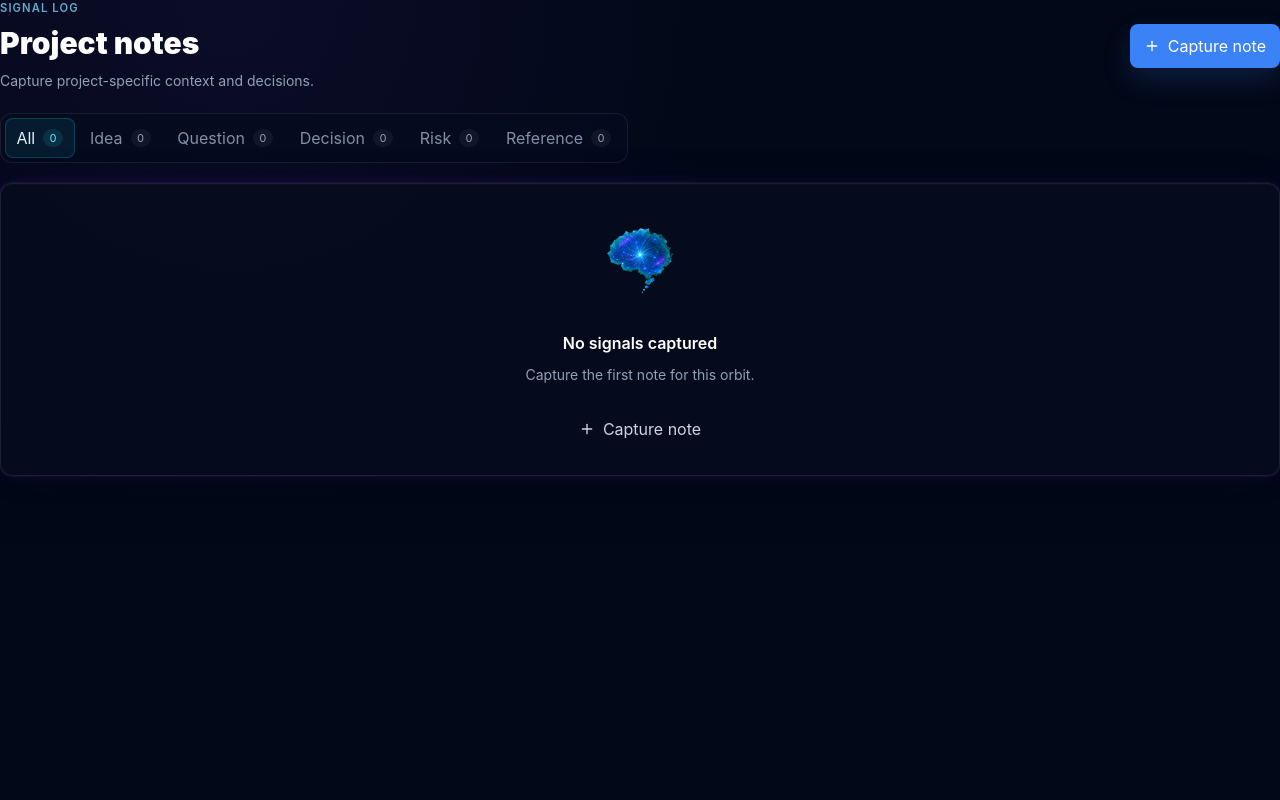
Scenario: NotesPage › keeps both capture entry points functional without equal emphasis
Check: the heading "No signals captured" is shown, box [563,333,717,353]
What coordinates should you click on to do the following:
click the button "Capture note" in the row of "Project notes"
I would click on:
 (1205, 46)
Its box is [1130,24,1279,68].
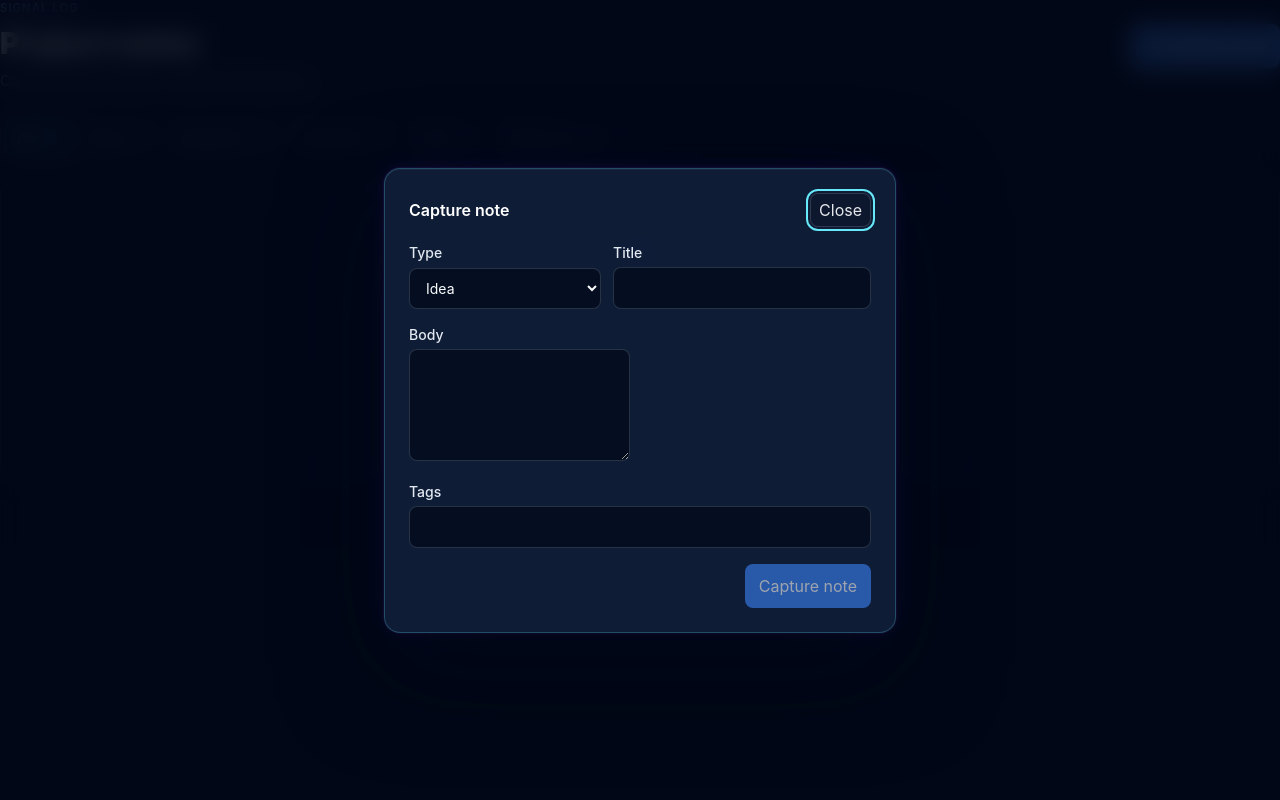
Check: the dialog "Capture note" is shown, box [384,168,896,632]
What coordinates should you click on to do the following:
click the button "Close"
I would click on:
 (841, 210)
Its box is [810,192,871,226].
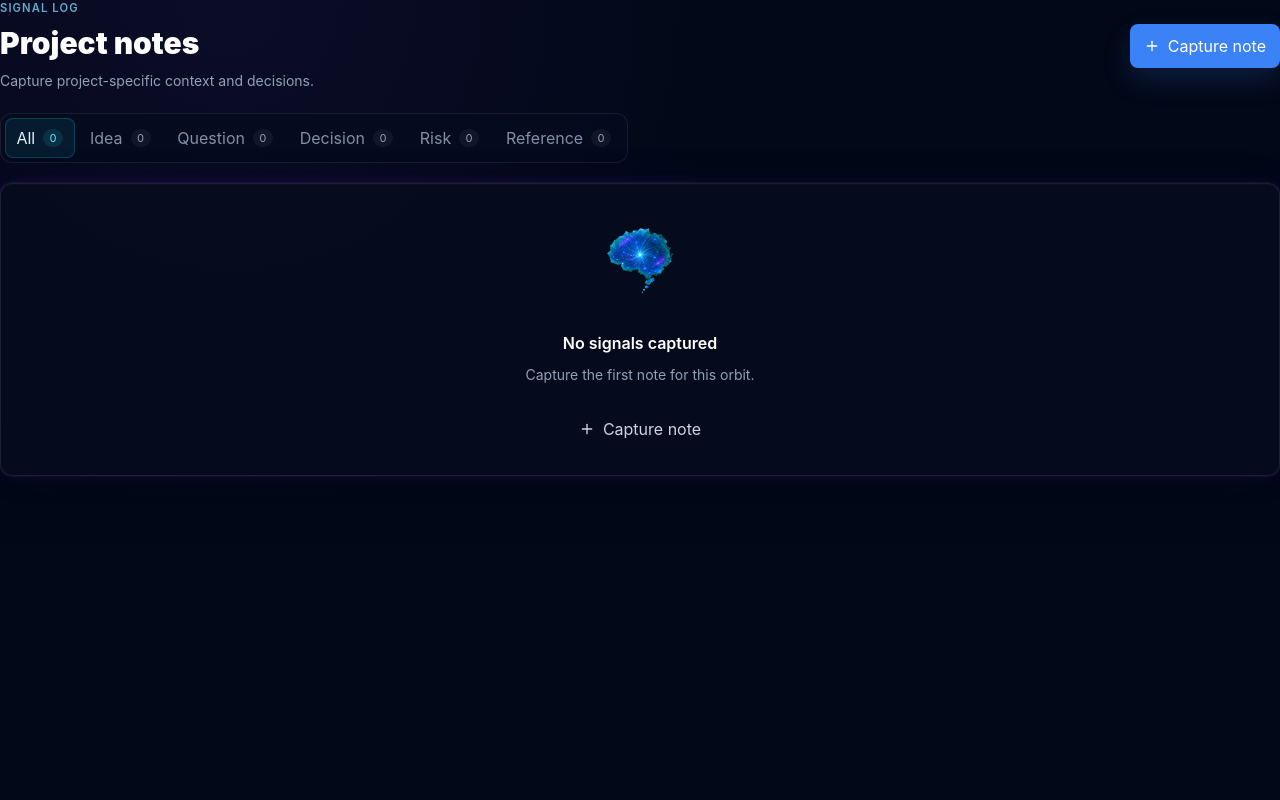
What coordinates should you click on to do the following:
click the button "Capture note" below "Capture the first note for this orbit."
I would click on:
 (640, 429)
Its box is [565,407,715,451].
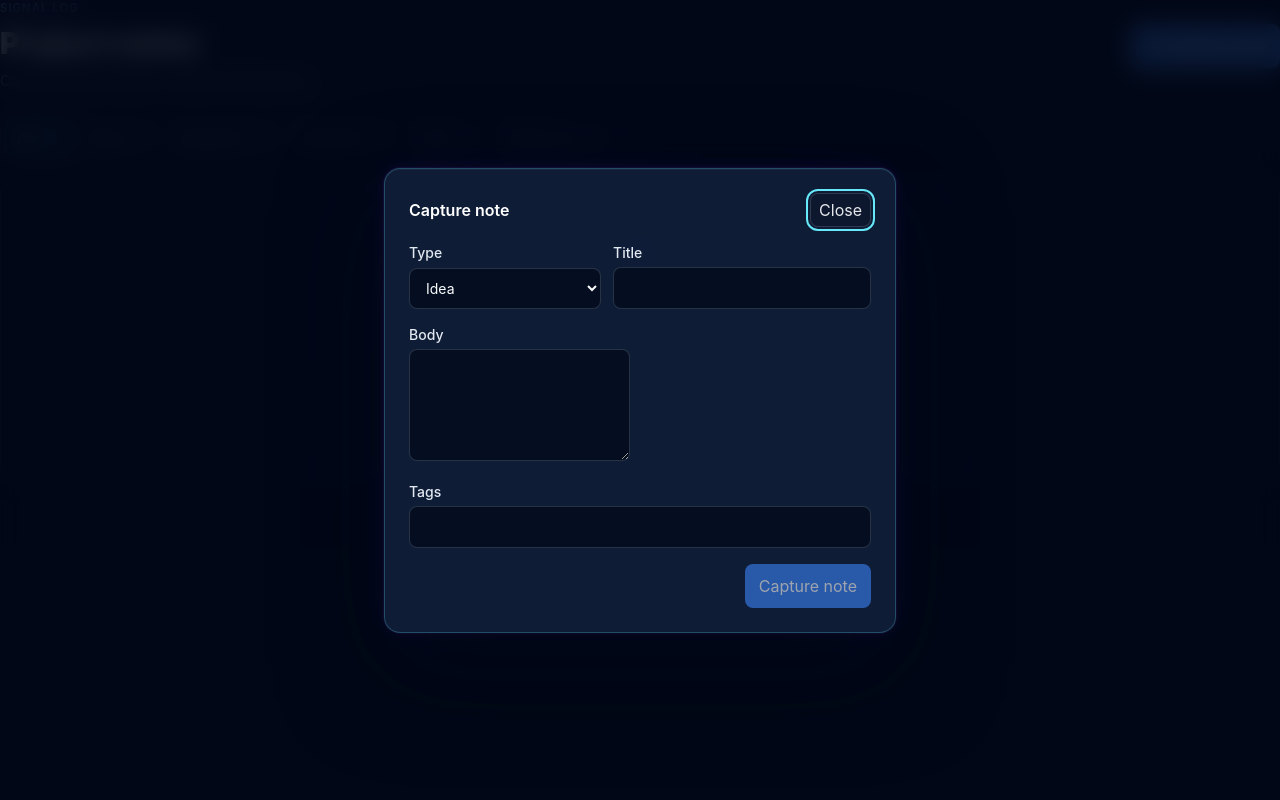
Check: the dialog "Capture note" is shown, box [384,168,896,632]
